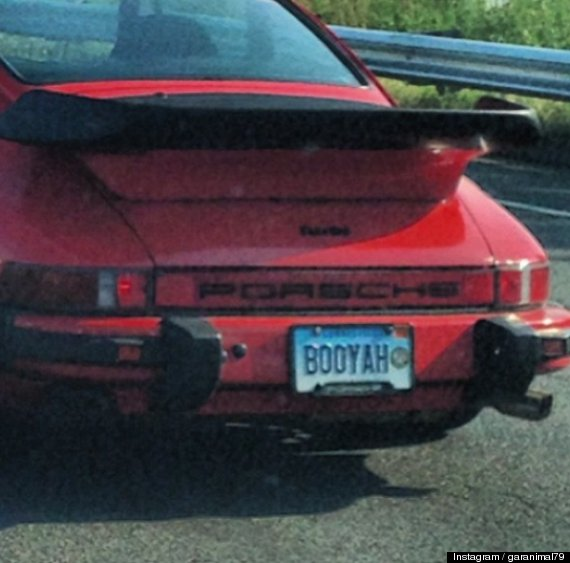license plate: (288, 318, 417, 401)
